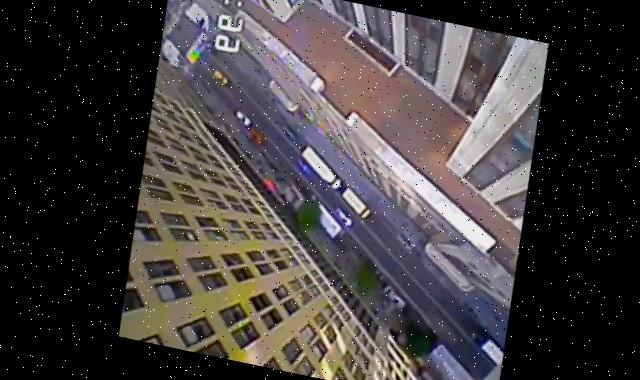car: (225, 104, 259, 134), (205, 67, 238, 94), (323, 205, 355, 232)
truck: (284, 138, 351, 194), (327, 182, 381, 226)
